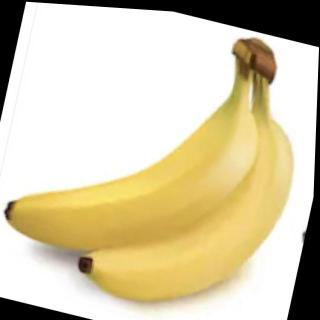banana: (0, 53, 267, 289), (70, 74, 308, 320)
